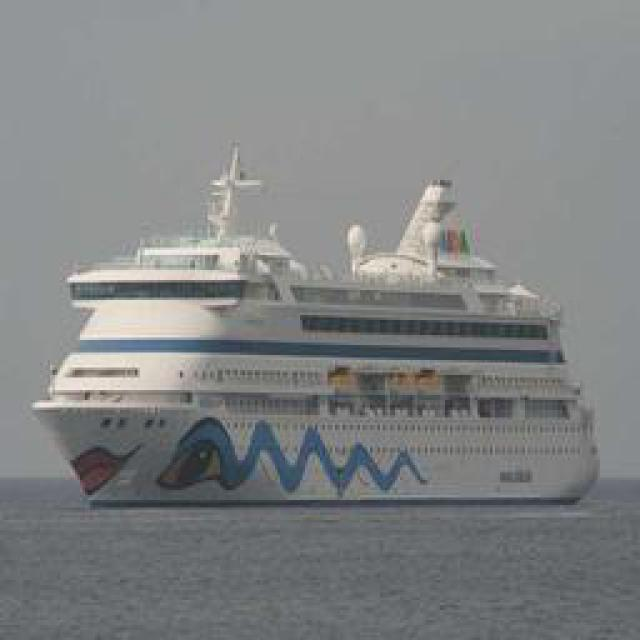Ship: (37, 146, 590, 516)
